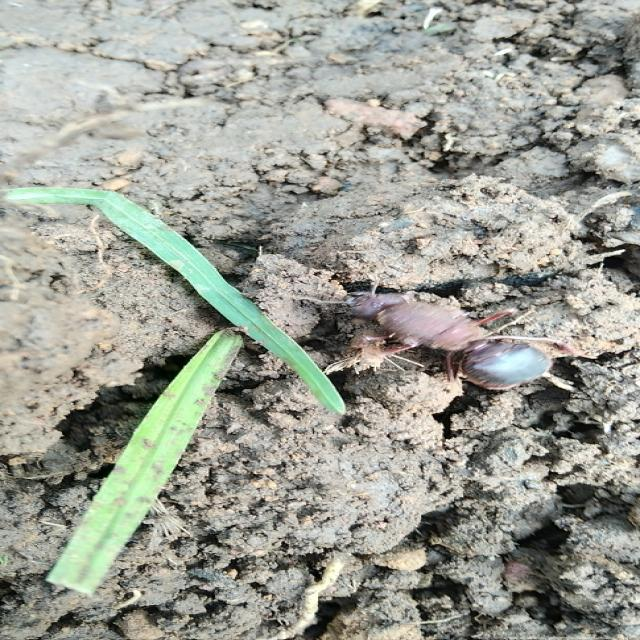Alive-Female-Dealate: (282, 269, 598, 391)
